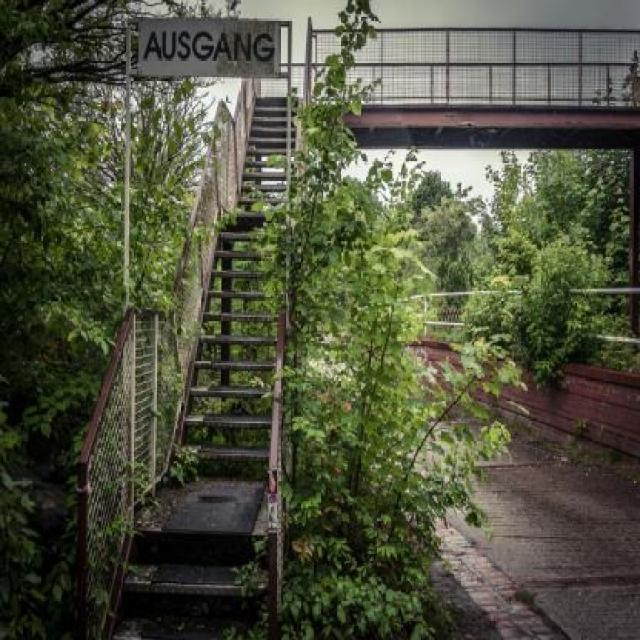stair: (174, 95, 303, 457), (107, 515, 276, 640)
